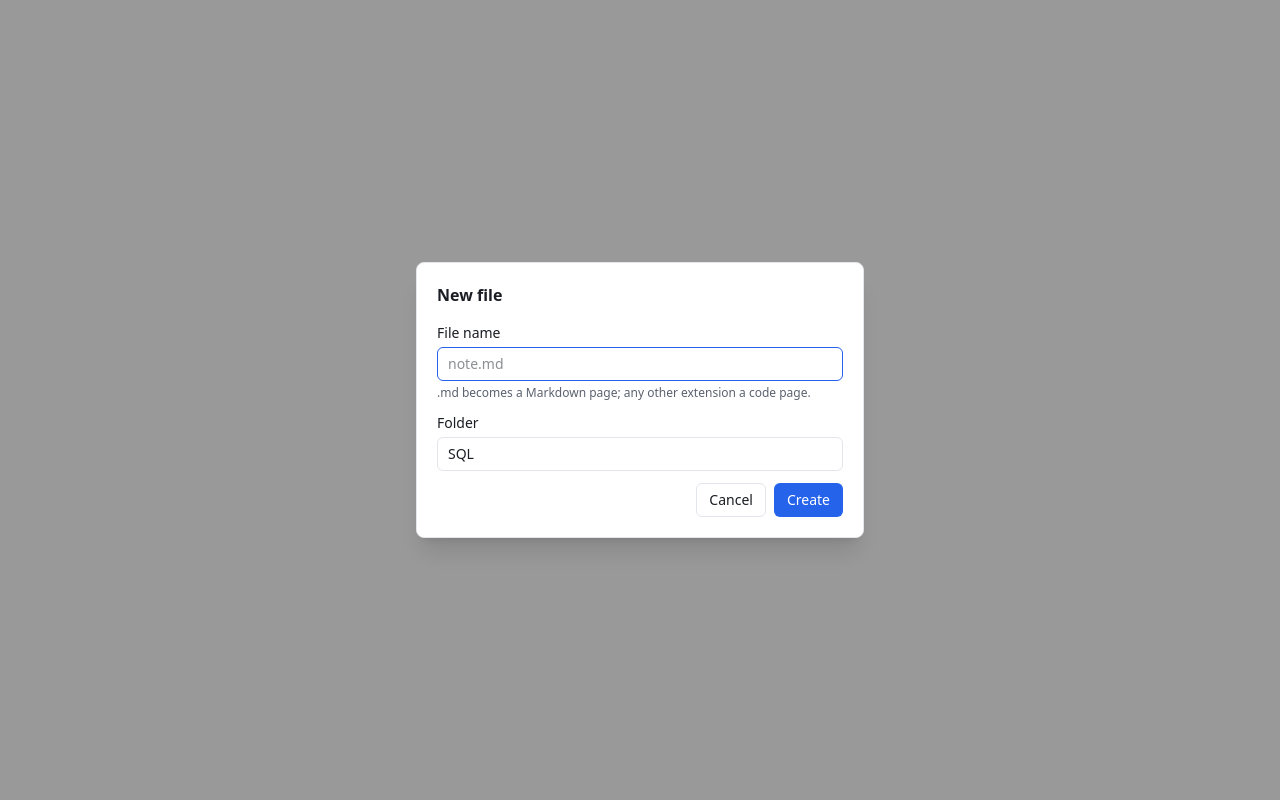
Test: NewFileDialog › reports a file created on GitHub in the meantime
Type "sum.sql" into the field labelled "File name" at (640, 364), box [437, 347, 843, 381]
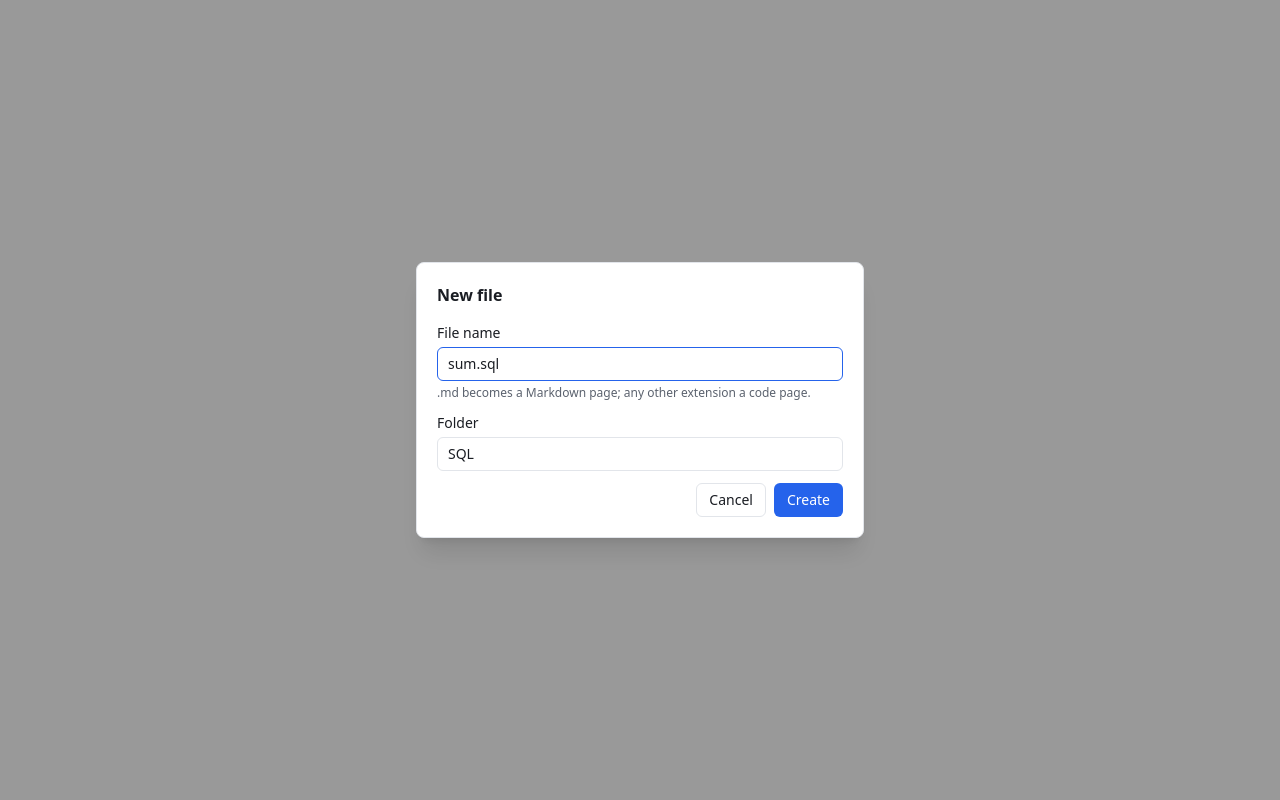
Click the button "Create" at (808, 500), box [774, 483, 843, 517]
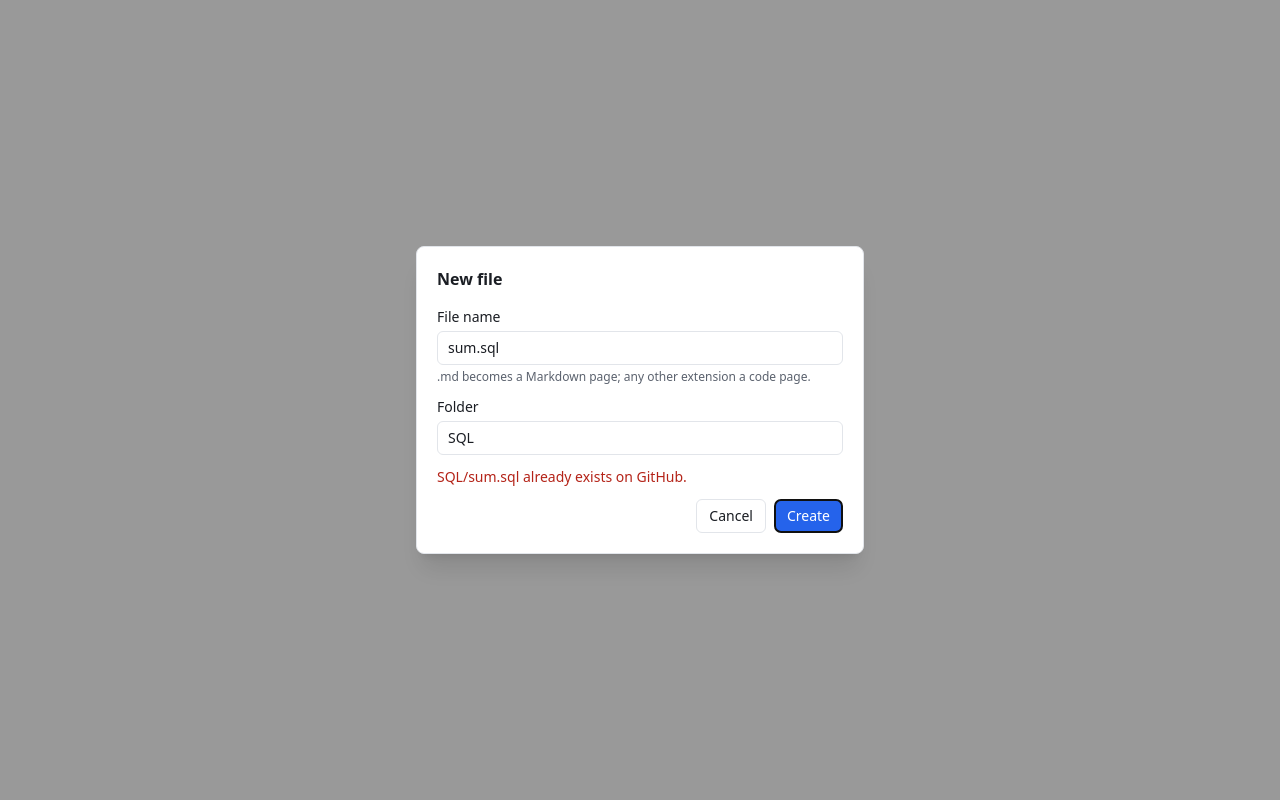
Expected: the message reads "SQL/sum.sql already exists on GitHub.", [437, 467, 687, 486]
